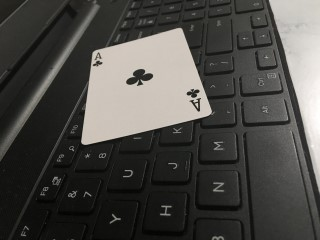AceOfClubs: (81, 28, 212, 144)
